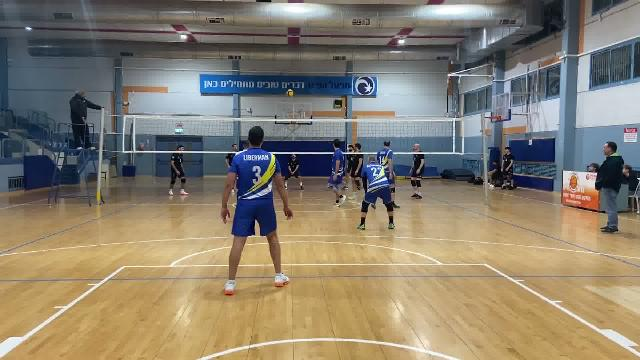ball: (286, 88, 295, 98)
